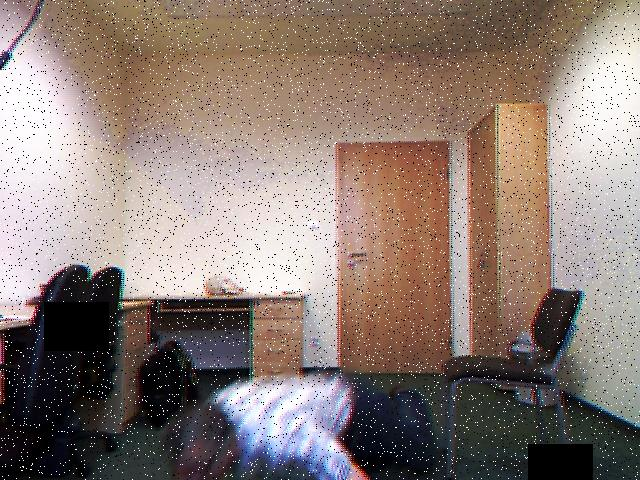fall: (156, 359, 469, 480)
